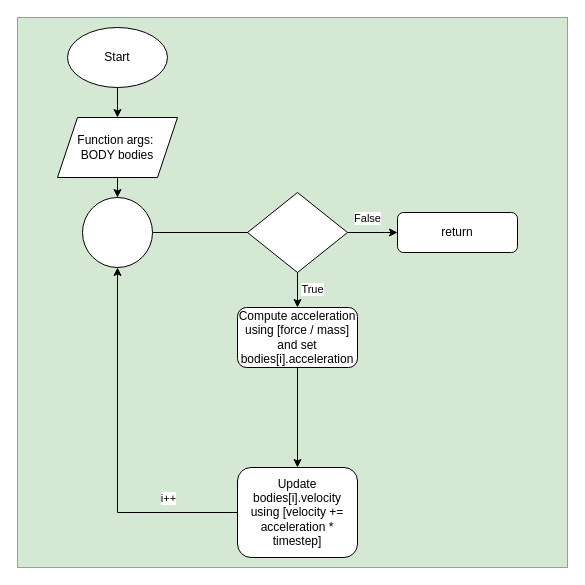
The diagram is 585 pixels wide and 585 high, and some of its shapes have lost their labels. Here are the shapes that lost their labels. From the top down, the centre of each, then its label:
[117,232]: start loop at i = 0
[297,232]: is i < bodies.length
